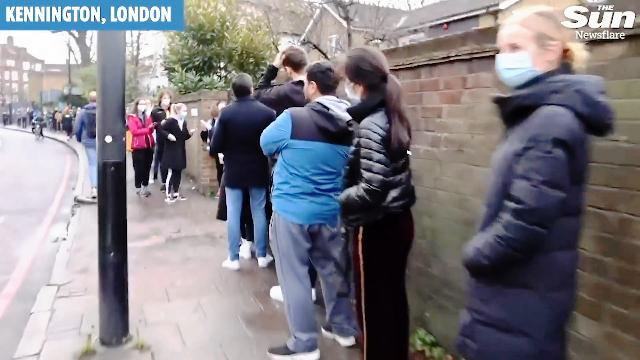berdiri: (430, 4, 616, 360), (261, 56, 363, 360), (338, 38, 432, 360), (212, 62, 280, 280), (152, 92, 192, 206)
